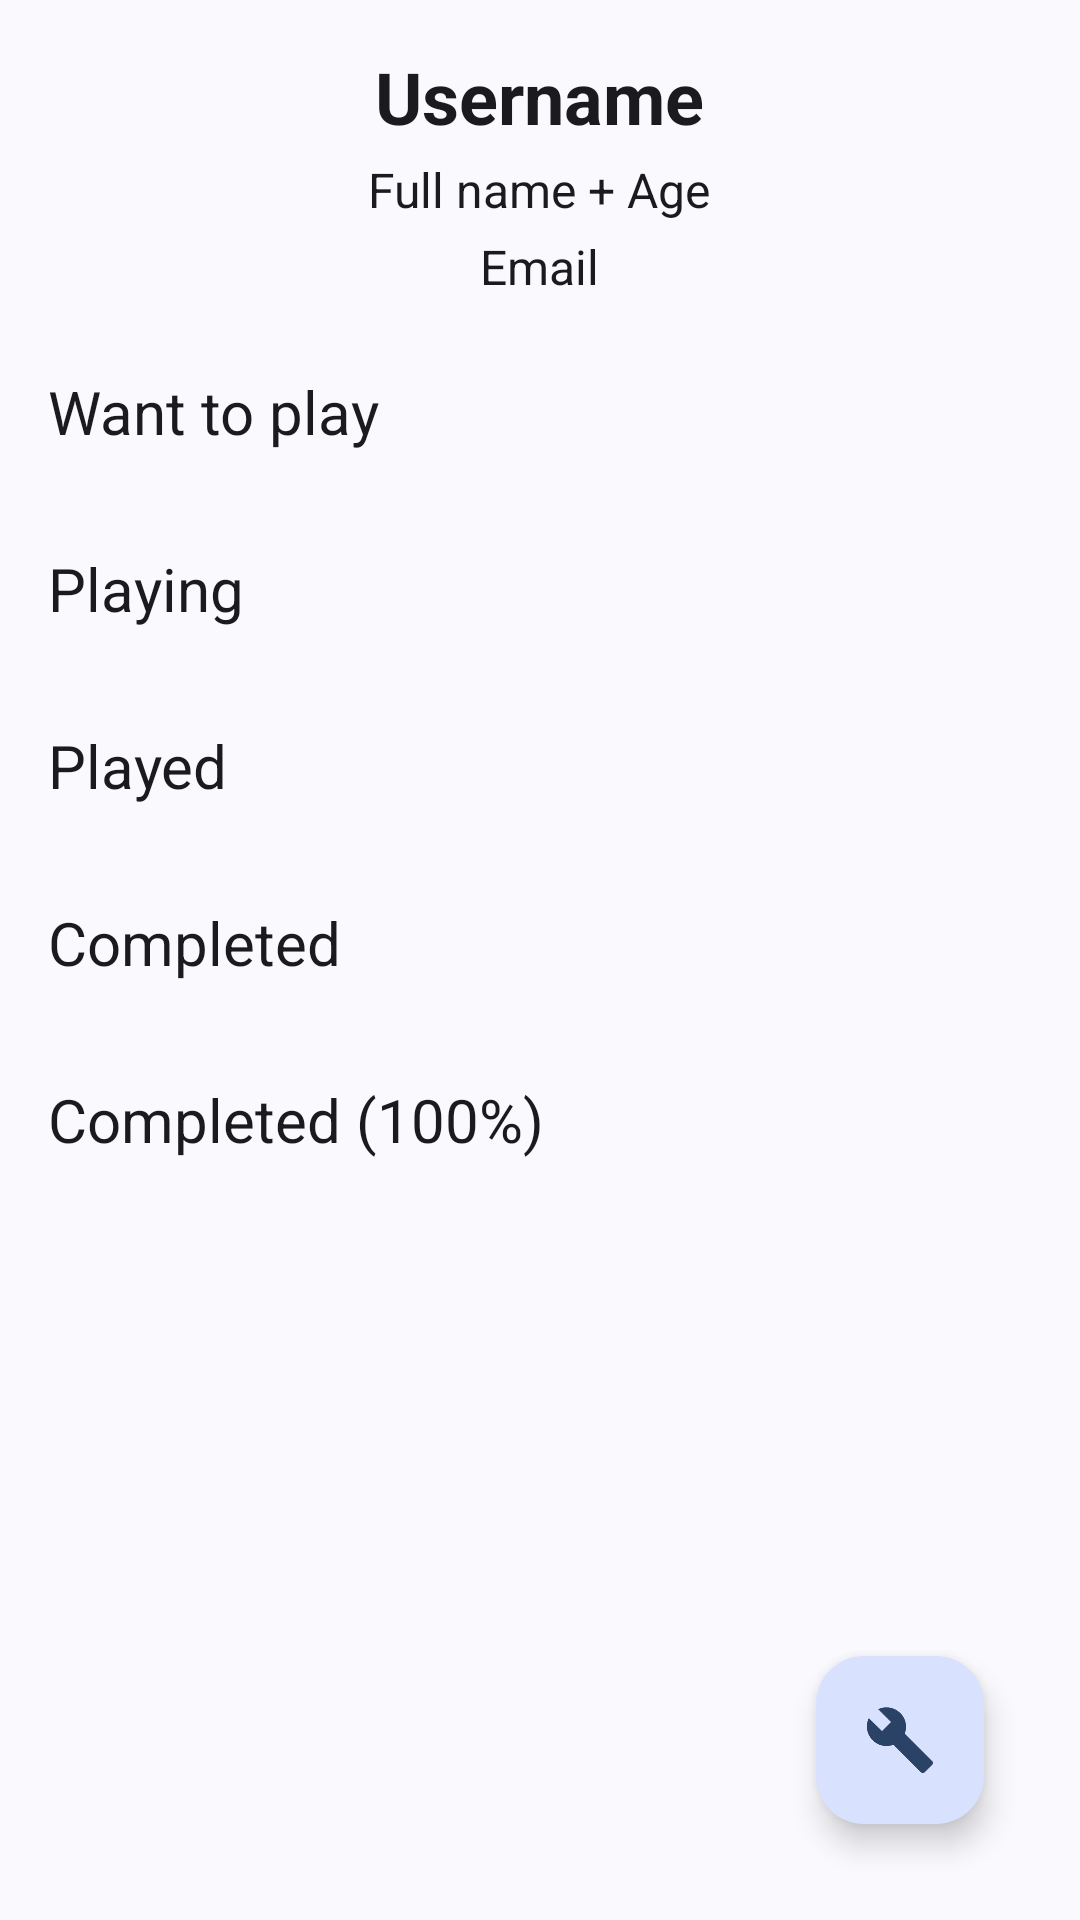

Point at icon controls on the screen. Image size 1080x1920, points as [x,y].
settings: [900,1740]
